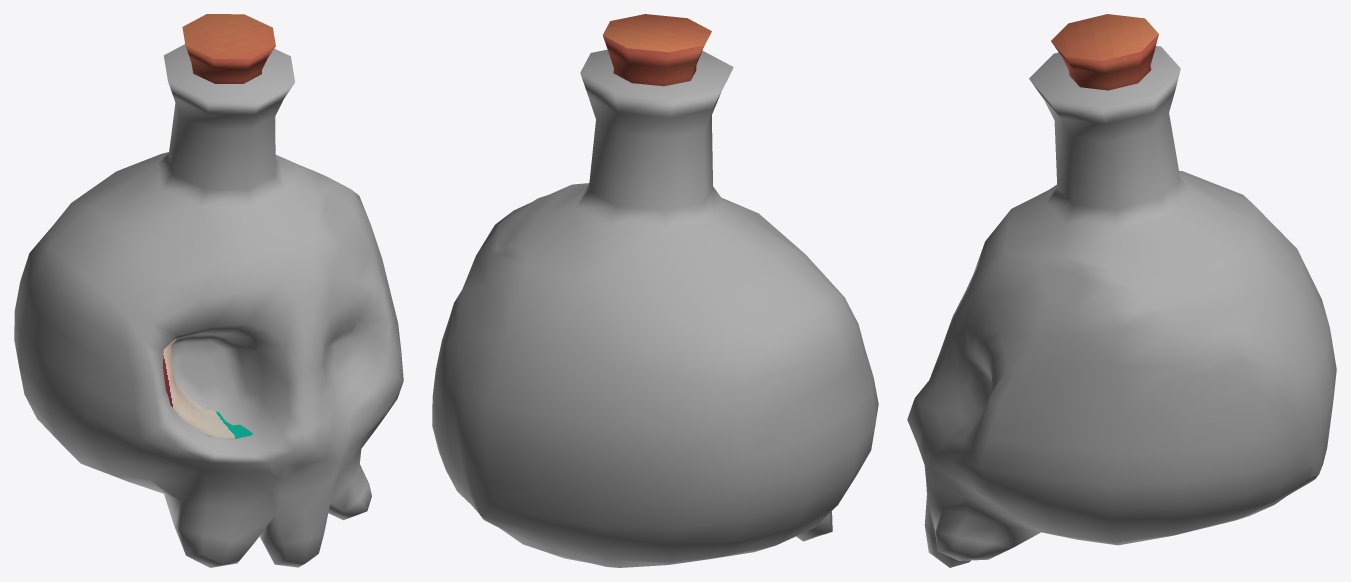
File: SkullPotion.fbx
3 views of the same model, side by side, from view 1: azimuth 30°, elevation 25°; view 2: azimuth 150°, elevation 25°; view 3: azimuth 270°, elevation 25° (orthographic). The views are drawn at different scales.
Visible parts, largest first — view 1: SkullGlass, Extra, Liquid; view 2: SkullGlass, Extra; view 3: SkullGlass, Extra.
Part boxes in pixels (bbox=[...]): SkullGlass: bbox=[14, 44, 403, 567]; Extra: bbox=[182, 14, 275, 83]; Liquid: bbox=[163, 338, 252, 439]; SkullGlass: bbox=[432, 49, 878, 567]; Extra: bbox=[602, 14, 711, 86]; SkullGlass: bbox=[907, 46, 1336, 567]; Extra: bbox=[1051, 14, 1158, 90].
Size of the model in its own units: 1.59 by 2.18 by 1.59.
